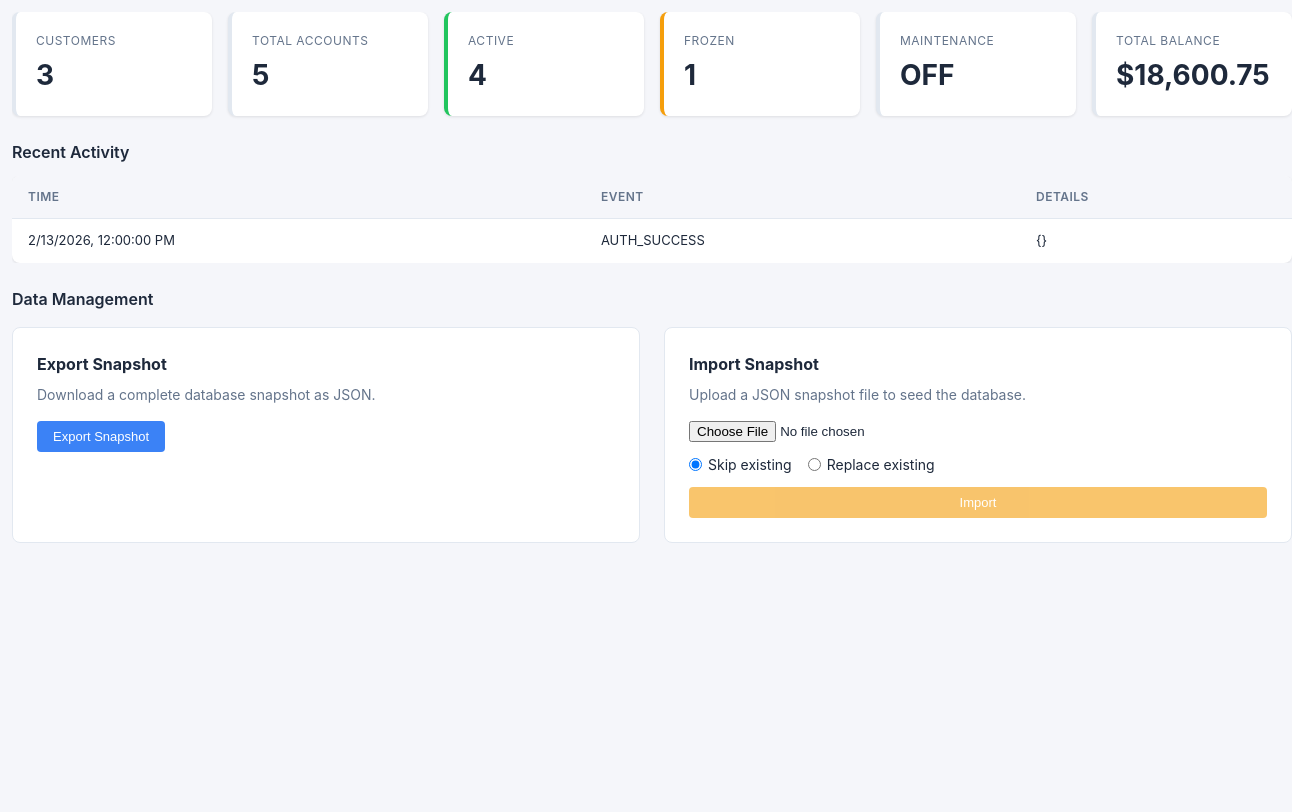
Test case: DashboardPage › shows error on export failure
Click the button "Export Snapshot". click: (101, 436)
box: top-left (37, 420), bottom-right (165, 452)
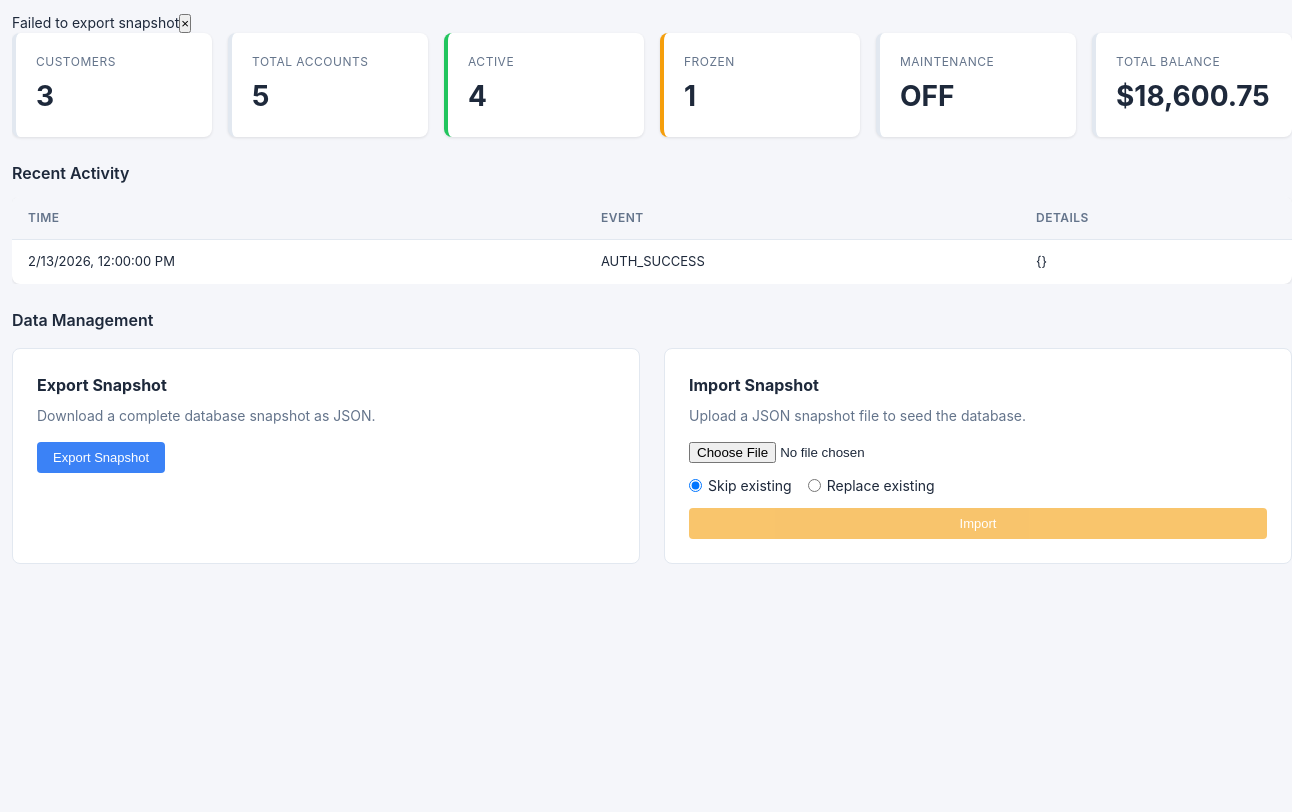
Result: the text "Failed to export snapshot" is shown at top-left (12, 14), bottom-right (179, 31)
